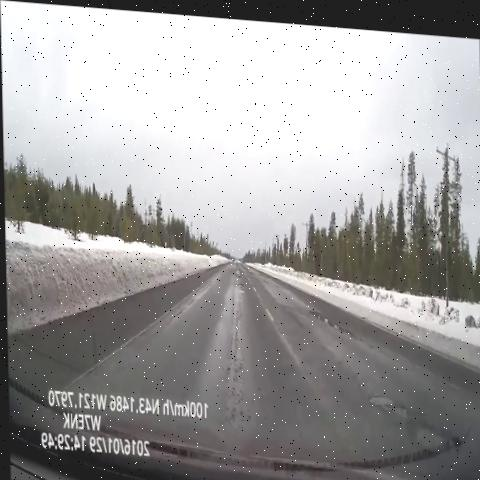pothole: (307, 295, 362, 350), (363, 372, 413, 426), (228, 269, 249, 298), (228, 257, 242, 280)
